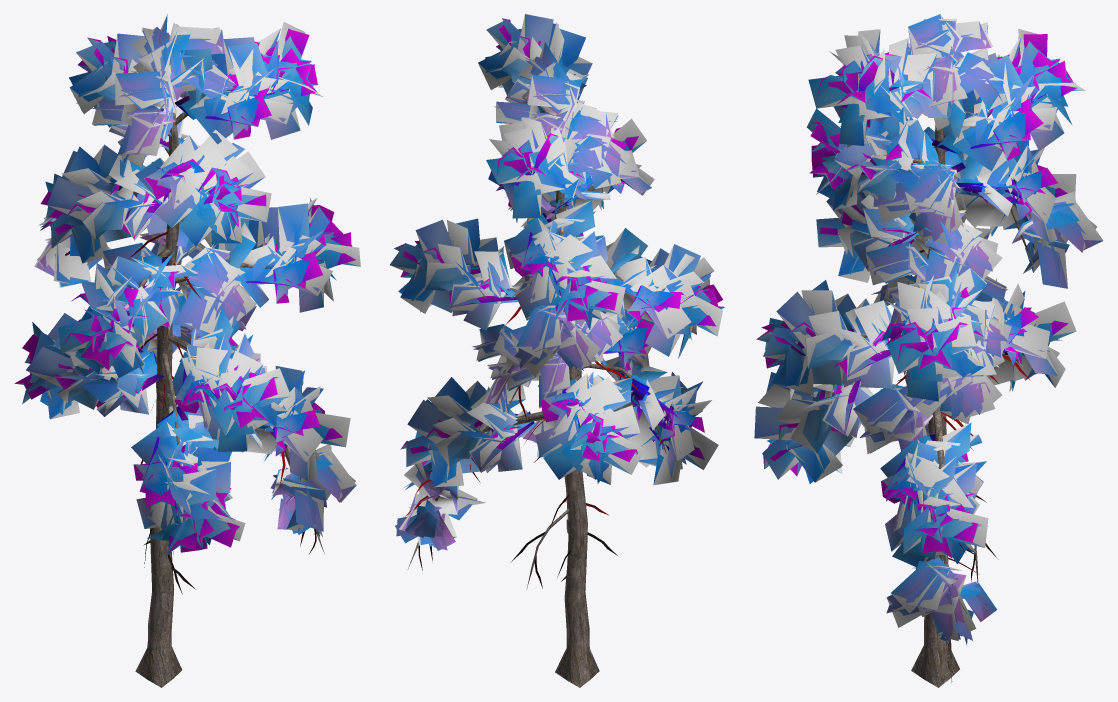
File: pine_radiata_weathered.dae
The picture shows the model from 3 angles, left to right: view 1: azimuth 30°, elevation 25°; view 2: azimuth 150°, elevation 25°; view 3: azimuth 270°, elevation 25°; orthographic projection. The views are drawn at different scales.
Parts seen in each view (by area): view 1: pine_radiata_weathered_a1000, pine_radiata_weathered_a500, Colmesh_pine_radiata_weathered-1; view 2: pine_radiata_weathered_a1000, pine_radiata_weathered_a500, Colmesh_pine_radiata_weathered-1; view 3: pine_radiata_weathered_a1000, pine_radiata_weathered_a500.
Boxes of the visible parts, left/top/right/bottom form: pine_radiata_weathered_a1000: left=15, top=14, right=359, bottom=687; pine_radiata_weathered_a500: left=14, top=16, right=360, bottom=687; Colmesh_pine_radiata_weathered-1: left=148, top=253, right=173, bottom=651; pine_radiata_weathered_a1000: left=390, top=14, right=724, bottom=687; pine_radiata_weathered_a500: left=390, top=15, right=724, bottom=687; Colmesh_pine_radiata_weathered-1: left=555, top=192, right=589, bottom=680; pine_radiata_weathered_a1000: left=754, top=14, right=1102, bottom=687; pine_radiata_weathered_a500: left=755, top=16, right=1103, bottom=687.
Size of the model in its own units: 11.82 by 10.92 by 23.47.
